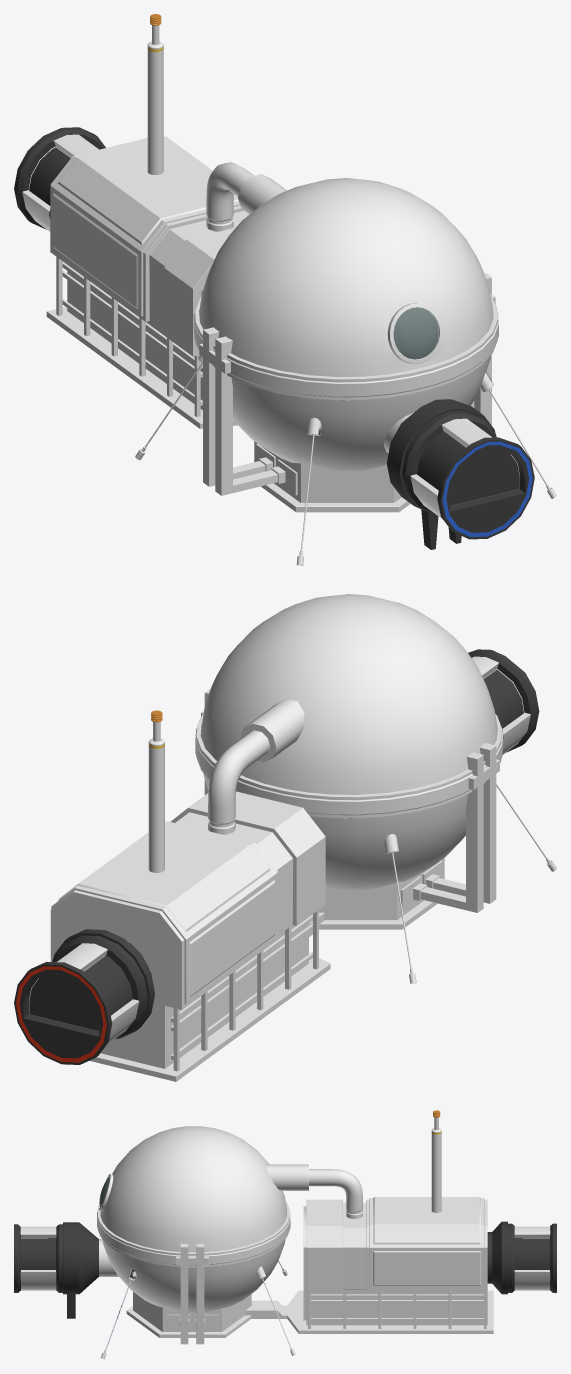
File: ElectrostaticSeperator_Mesh.fbx
3 renders of one model, top to bottom at view 1: azimuth 30°, elevation 25°; view 2: azimuth 150°, elevation 25°; view 3: azimuth 270°, elevation 25°, orthographic. The views are drawn at different scales.
Parts seen in each view (by area): view 1: ElectroStaticSeperator_Mesh; view 2: ElectroStaticSeperator_Mesh; view 3: ElectroStaticSeperator_Mesh.
Part boxes in pixels (<box>): ElectroStaticSeperator_Mesh: <box>14,14,556,565</box>; ElectroStaticSeperator_Mesh: <box>14,594,556,1081</box>; ElectroStaticSeperator_Mesh: <box>14,1110,556,1359</box>.
Size of the model in its own units: 75.03 by 83.62 by 200.
